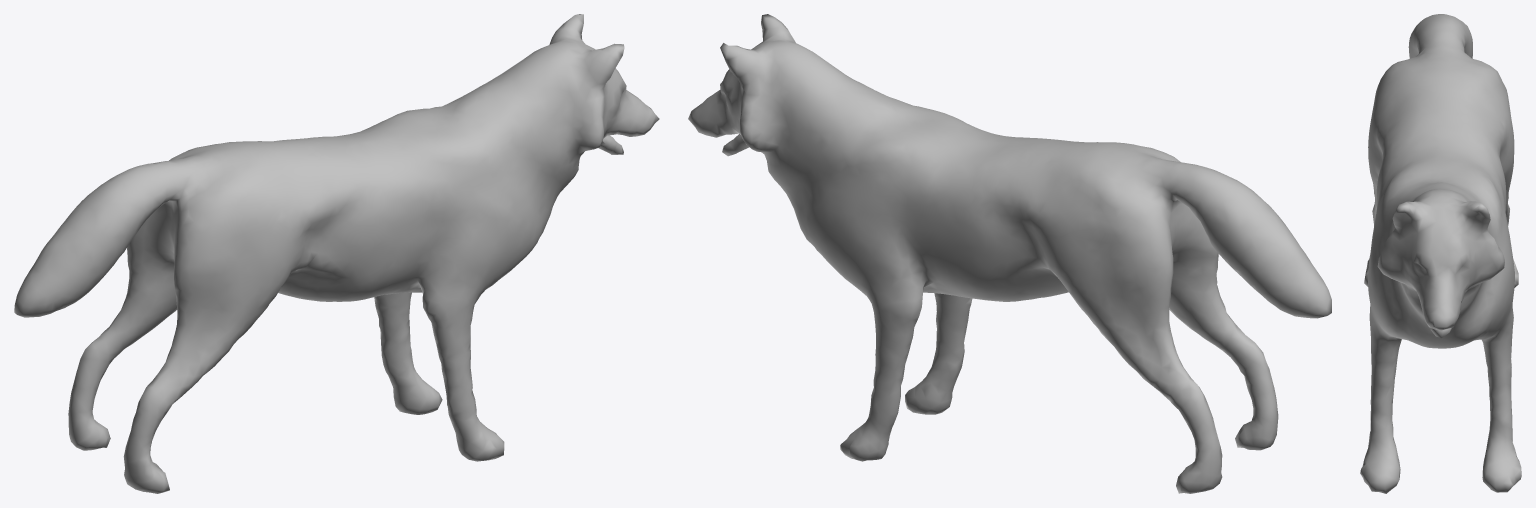
The picture shows the model from 3 angles, left to right: view 1: azimuth 30°, elevation 25°; view 2: azimuth 150°, elevation 25°; view 3: azimuth 270°, elevation 25°; orthographic projection. The views are drawn at different scales.
Visible parts, largest first — view 1: pMesh1; view 2: pMesh1; view 3: pMesh1.
Part boxes in pixels (<box>): pMesh1: <box>14,14,659,493</box>; pMesh1: <box>688,14,1331,493</box>; pMesh1: <box>1360,14,1521,493</box>.
Bounding box in the file's own units: 2 × 1.1 × 0.4604.
Materials: 1 (1 with a texture image).
